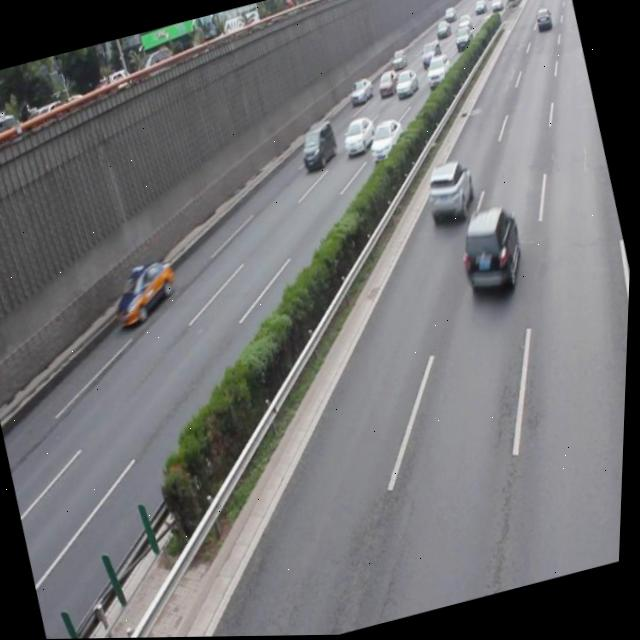car: (450, 201, 532, 303), (107, 253, 185, 327), (419, 156, 481, 228), (364, 116, 409, 164), (337, 114, 380, 159)
truck: (294, 121, 342, 175)
